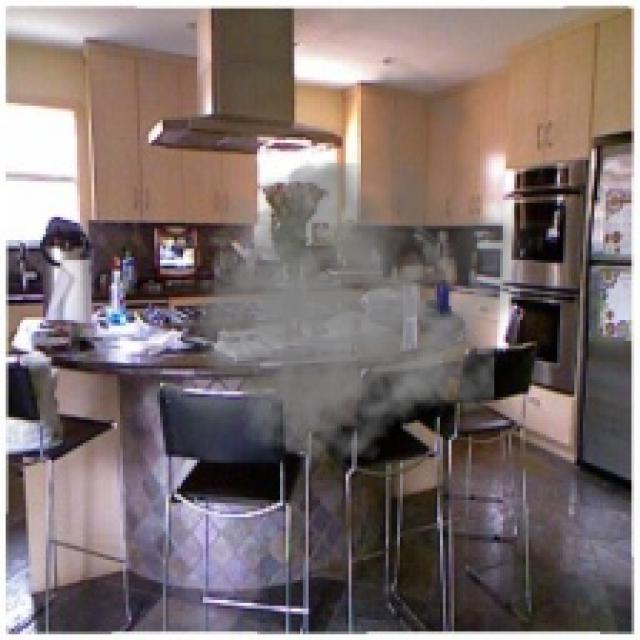Smoke: (171, 51, 540, 472)
